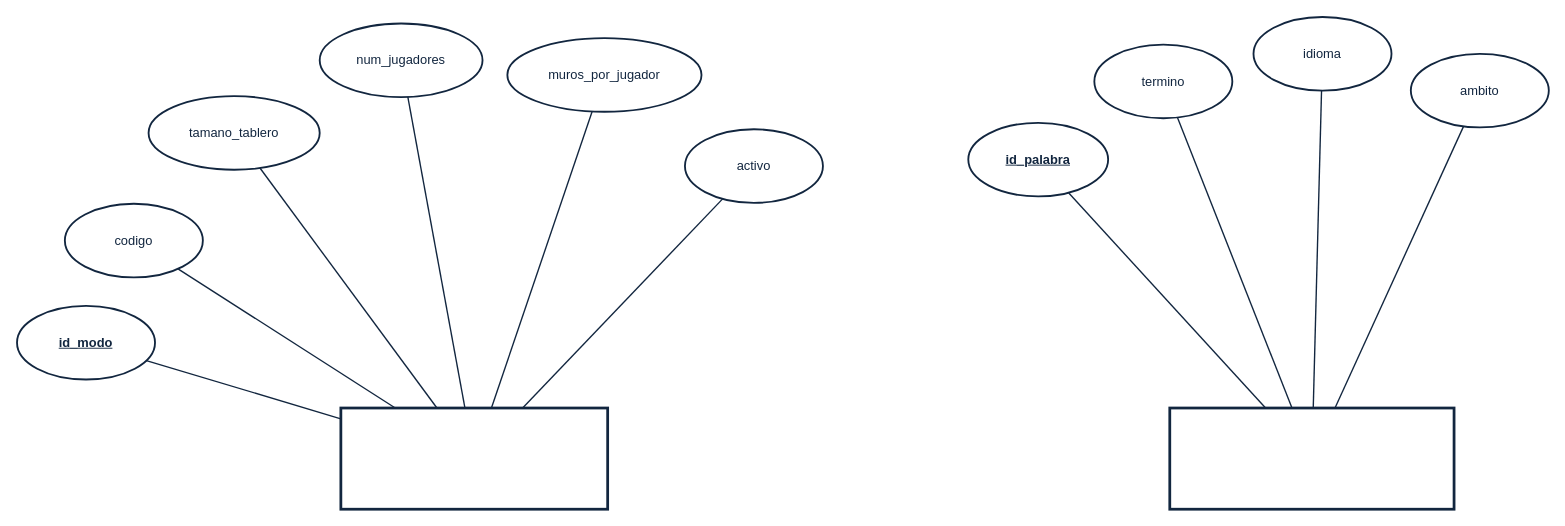
This 1565x526 diagram has some shape labels left out. The shapes that lost their labels are listed below. From the top down, each one's centre as x and y in pixels, then its label:
At [474,458]: "Modo".
At [1311,458]: "PalabraProhibida".
